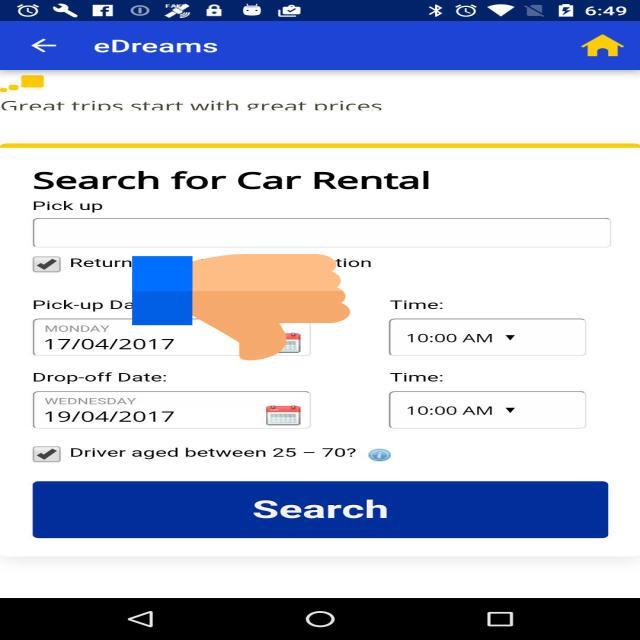obstruction: (132, 251, 350, 363)
